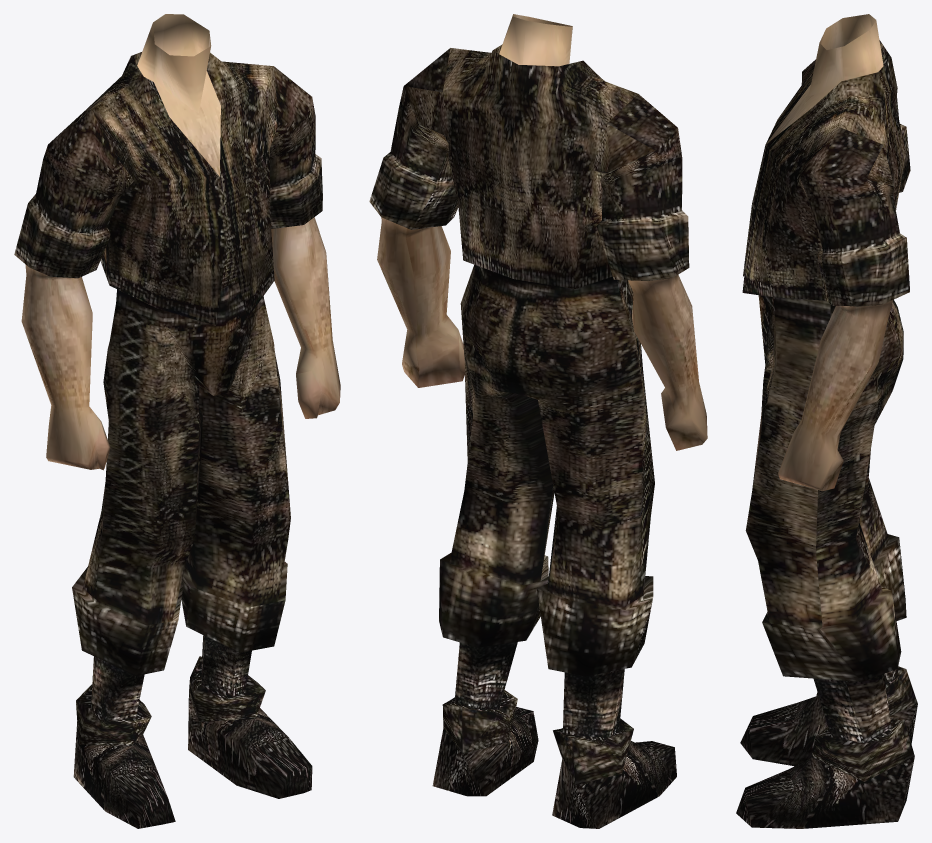
File: GS_ARMOR_BAU_L_01.glb
The picture shows the model from 3 angles, left to right: view 1: azimuth 30°, elevation 25°; view 2: azimuth 150°, elevation 25°; view 3: azimuth 270°, elevation 25°; orthographic projection. The views are drawn at different scales.
Parts seen in each view (by area): view 1: GS_ARMOR_BAU_L_01; view 2: GS_ARMOR_BAU_L_01; view 3: GS_ARMOR_BAU_L_01.
Boxes of the visible parts, x1,y1,x2,y2 form: GS_ARMOR_BAU_L_01: (14, 14, 340, 828); GS_ARMOR_BAU_L_01: (369, 14, 707, 828); GS_ARMOR_BAU_L_01: (736, 14, 917, 828).
Bounding box in the file's own units: 0.6885 × 1.68 × 0.3618.
2 materials, 2 textured.
